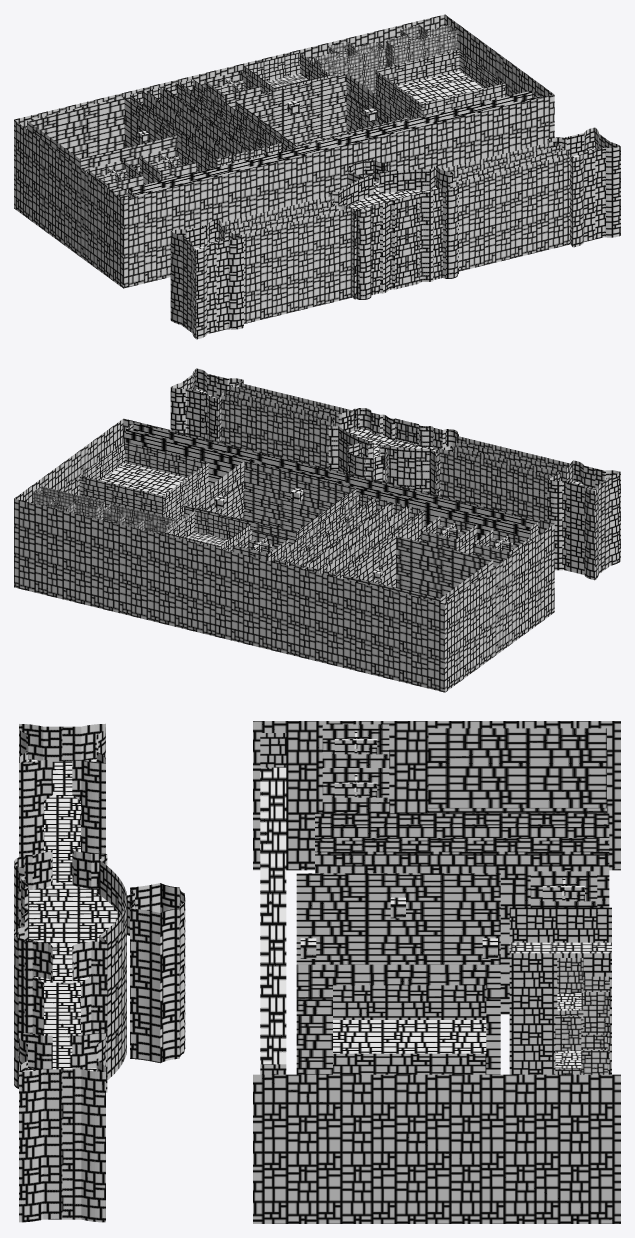
Rendered from Temple3.glb.
3 renders of one model, top to bottom at view 1: azimuth 30°, elevation 25°; view 2: azimuth 150°, elevation 25°; view 3: azimuth 270°, elevation 25°, orthographic. The views are drawn at different scales.
Parts seen in each view (by area): view 1: Entrance, Wall, BridgeRoom, HallwayChain, PillarsRoom, BallsRoom, Hallway, StatueHallway1, StatueHallway2, CirclesRoom, CrossRoom2, CrossRoom1 (+1 smaller); view 2: Wall, Entrance, BridgeRoom, Hallway, BallsRoom, HallwayChain, PillarsRoom, CirclesRoom, StatueHallway2, CrossRoom2, StatueHallway1, CrossRoom1 (+1 smaller); view 3: Wall, Entrance, BridgeRoom, HallwayChain, PillarsRoom, BallsRoom, CirclesRoom, Hallway, StatueHallway1, StatueHallway2, CrossRoom2, CrossRoom1 (+4 smaller).
Part boxes in pixels (bbox=[...]): Entrance: bbox=[170, 127, 620, 339]; Wall: bbox=[14, 14, 554, 288]; BridgeRoom: bbox=[235, 73, 407, 151]; HallwayChain: bbox=[130, 79, 280, 172]; PillarsRoom: bbox=[27, 96, 177, 172]; BallsRoom: bbox=[376, 50, 505, 120]; Hallway: bbox=[128, 90, 539, 198]; StatueHallway1: bbox=[314, 41, 385, 94]; StatueHallway2: bbox=[385, 25, 457, 67]; CirclesRoom: bbox=[244, 52, 330, 94]; CrossRoom2: bbox=[140, 147, 196, 185]; CrossRoom1: bbox=[87, 160, 143, 199]; Wall: bbox=[14, 418, 554, 692]; Entrance: bbox=[170, 368, 620, 580]; BridgeRoom: bbox=[184, 461, 356, 546]; Hallway: bbox=[126, 423, 537, 541]; BallsRoom: bbox=[79, 442, 208, 524]; HallwayChain: bbox=[272, 494, 423, 578]; PillarsRoom: bbox=[343, 536, 493, 603]; CirclesRoom: bbox=[164, 510, 250, 551]; StatueHallway2: bbox=[33, 486, 104, 520]; CrossRoom2: bbox=[420, 516, 476, 554]; StatueHallway1: bbox=[103, 504, 175, 535]; CrossRoom1: bbox=[473, 529, 529, 568]; Wall: bbox=[253, 721, 620, 1223]; Entrance: bbox=[14, 723, 185, 1222]; BridgeRoom: bbox=[296, 873, 500, 1074]; HallwayChain: bbox=[315, 813, 609, 1014]; PillarsRoom: bbox=[428, 728, 606, 813]; BallsRoom: bbox=[333, 985, 486, 1074]; CirclesRoom: bbox=[509, 907, 611, 1074]; Hallway: bbox=[260, 733, 286, 1074]; StatueHallway1: bbox=[557, 958, 609, 1074]; StatueHallway2: bbox=[555, 1016, 607, 1074]; CrossRoom2: bbox=[322, 768, 389, 813]; CrossRoom1: bbox=[322, 724, 389, 767].
Size of what is drawn, in the model's own units: 130 by 25.85 by 94.19.
2 materials, 1 textured.
